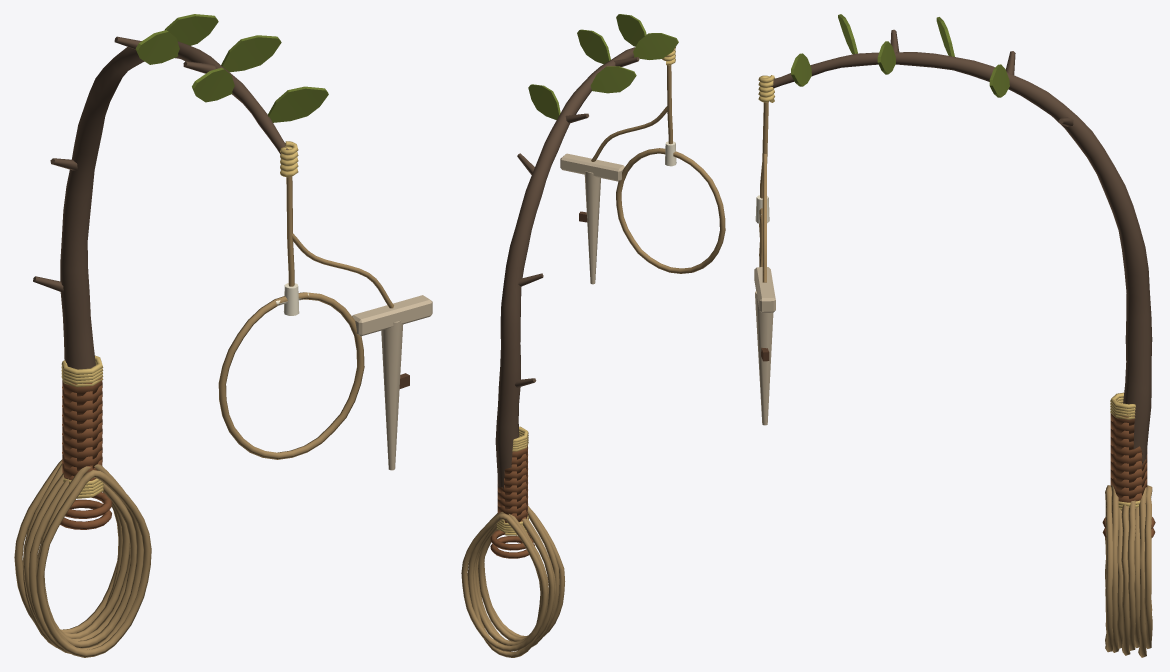
Rendered from tool_snare.fbx.
3 renders of one model, left to right at view 1: azimuth 30°, elevation 25°; view 2: azimuth 150°, elevation 25°; view 3: azimuth 270°, elevation 25°, orthographic. The views are drawn at different scales.
Parts seen in each view (by area): view 1: Tool_Snare_Coil, Tool_Snare_Sapling, Tool_Snare_Leaves, Tool_Snare_Noose, Tool_Snare_TriggerPeg, Tool_Snare_GripWhip, Tool_Snare_CoilTie; view 2: Tool_Snare_Sapling, Tool_Snare_Coil, Tool_Snare_Leaves, Tool_Snare_TriggerPeg, Tool_Snare_Noose, Tool_Snare_GripWhip, Tool_Snare_CoilTie; view 3: Tool_Snare_Sapling, Tool_Snare_Coil, Tool_Snare_GripWhip, Tool_Snare_TriggerPeg, Tool_Snare_Leaves, Tool_Snare_Noose.
Part boxes in pixels (left/top/right/bottom): Tool_Snare_Coil: left=14, top=459, right=151, bottom=657; Tool_Snare_Sapling: left=33, top=36, right=288, bottom=369; Tool_Snare_Leaves: left=135, top=14, right=328, bottom=122; Tool_Snare_Noose: left=218, top=141, right=364, bottom=459; Tool_Snare_TriggerPeg: left=292, top=233, right=432, bottom=470; Tool_Snare_GripWhip: left=61, top=355, right=103, bottom=498; Tool_Snare_CoilTie: left=60, top=492, right=112, bottom=529; Tool_Snare_Sapling: left=495, top=47, right=639, bottom=489; Tool_Snare_Coil: left=461, top=505, right=565, bottom=657; Tool_Snare_Leaves: left=528, top=14, right=678, bottom=119; Tool_Snare_TriggerPeg: left=560, top=106, right=667, bottom=284; Tool_Snare_Noose: left=616, top=47, right=725, bottom=273; Tool_Snare_GripWhip: left=496, top=426, right=528, bottom=535; Tool_Snare_CoilTie: left=490, top=530, right=534, bottom=558; Tool_Snare_Sapling: left=769, top=29, right=1152, bottom=464; Tool_Snare_Coil: left=1105, top=484, right=1152, bottom=657; Tool_Snare_GripWhip: left=1110, top=392, right=1147, bottom=510; Tool_Snare_TriggerPeg: left=754, top=153, right=775, bottom=425; Tool_Snare_Leaves: left=791, top=14, right=1009, bottom=97; Tool_Snare_Noose: left=758, top=75, right=774, bottom=267.
Bounding box in the file's own units: 26.14 × 83.74 × 48.74.
